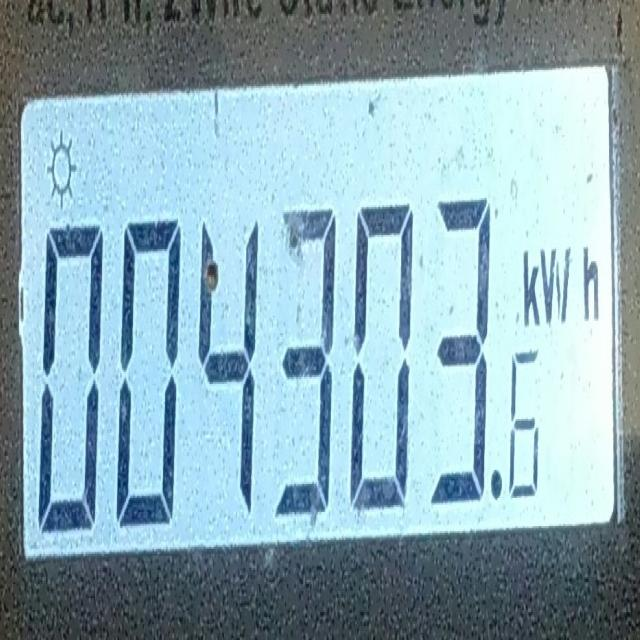.: (486, 451, 505, 516)
0: (342, 183, 422, 520), (32, 223, 108, 559), (112, 207, 184, 552)
3: (275, 188, 338, 530), (432, 181, 493, 519)
4: (197, 202, 261, 512)
6: (504, 337, 549, 519)
